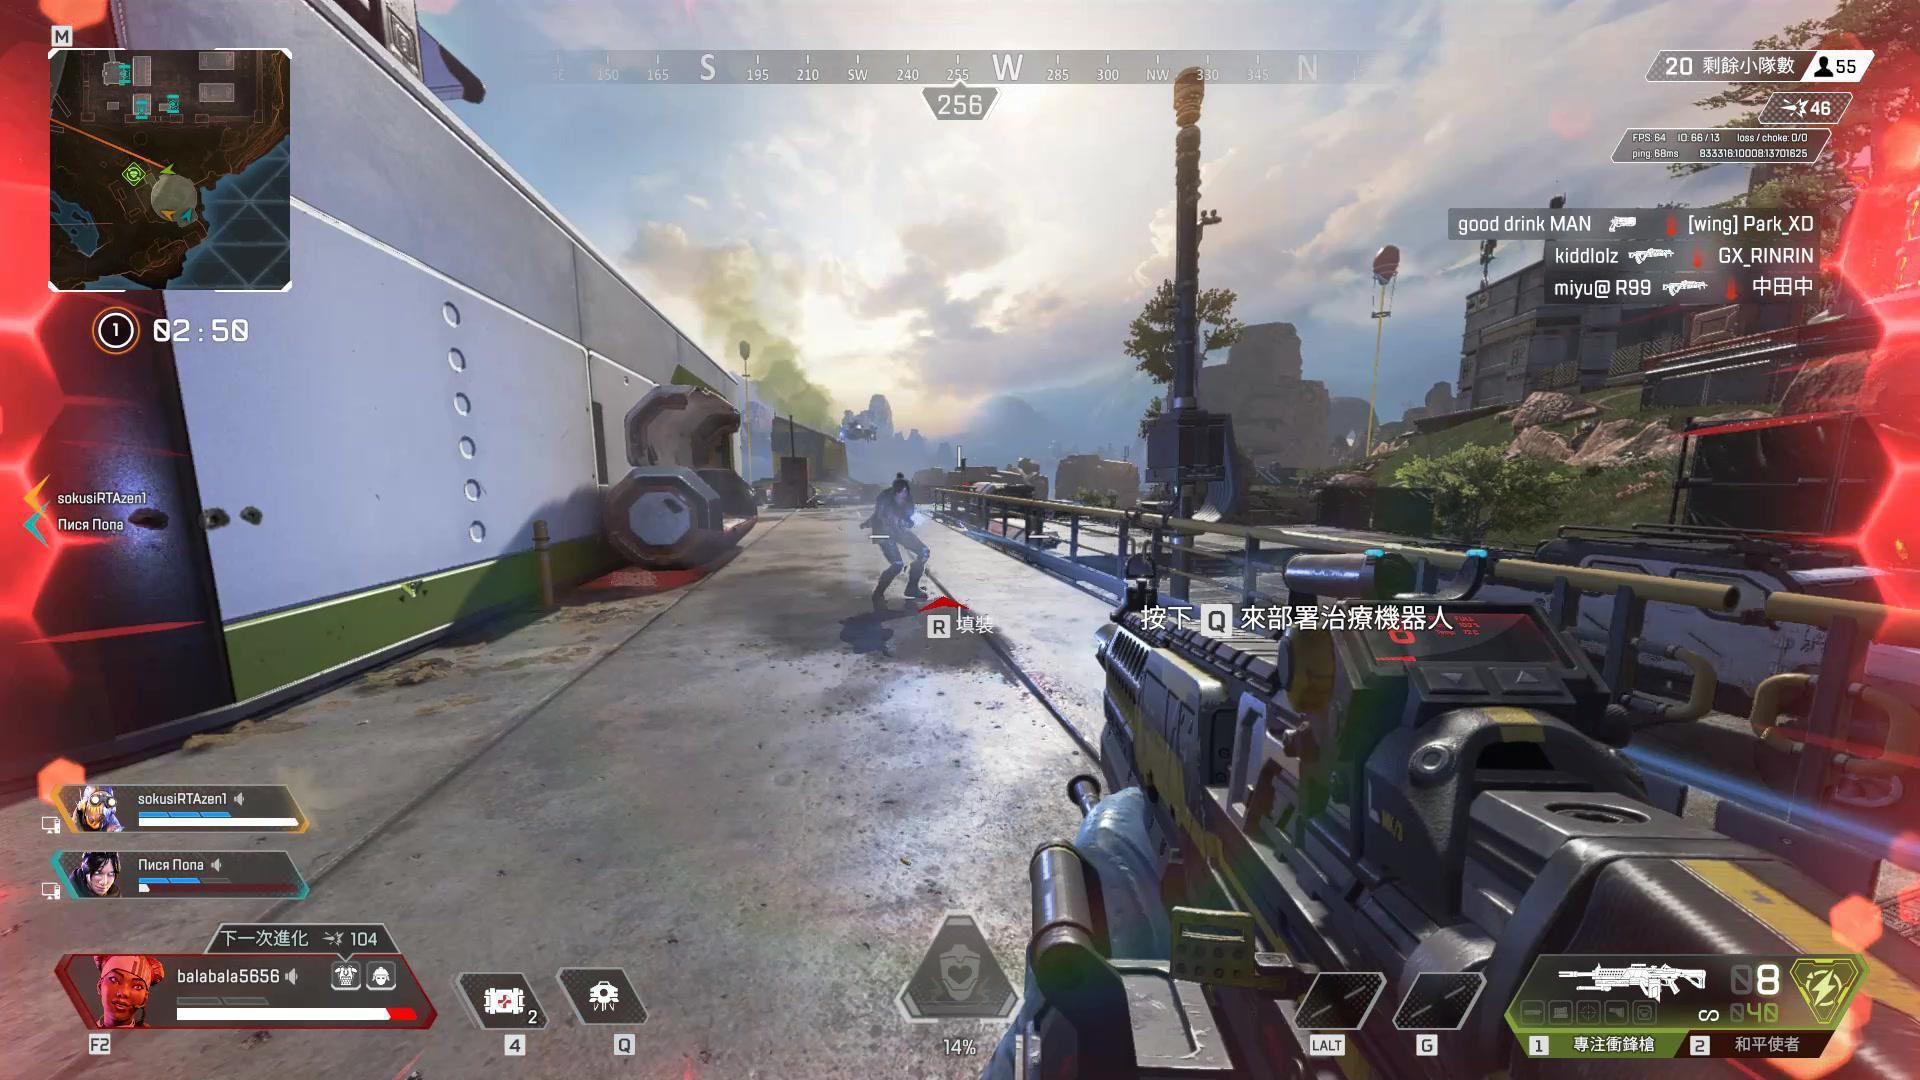avatar: (867, 469, 932, 608)
